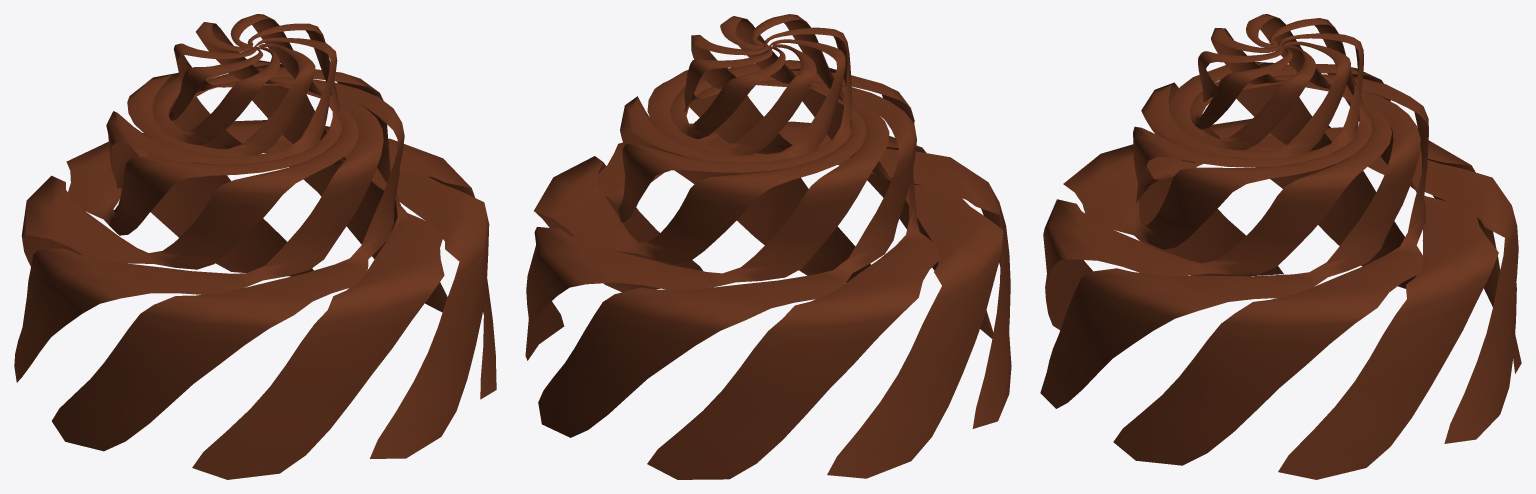
The model's file is cake_sauce_1.glb.
3 views of the same model, side by side, from view 1: azimuth 30°, elevation 25°; view 2: azimuth 150°, elevation 25°; view 3: azimuth 270°, elevation 25° (orthographic).
Parts seen in each view (by area): view 1: sauce_1; view 2: sauce_1; view 3: sauce_1.
Boxes of the visible parts, bbox=[...] form: sauce_1: bbox=[14, 14, 496, 479]; sauce_1: bbox=[525, 14, 1011, 479]; sauce_1: bbox=[1040, 14, 1521, 479].
Size of the model in its own units: 10.63 by 8.13 by 10.63.
Materials: 1 (1 with a texture image).
